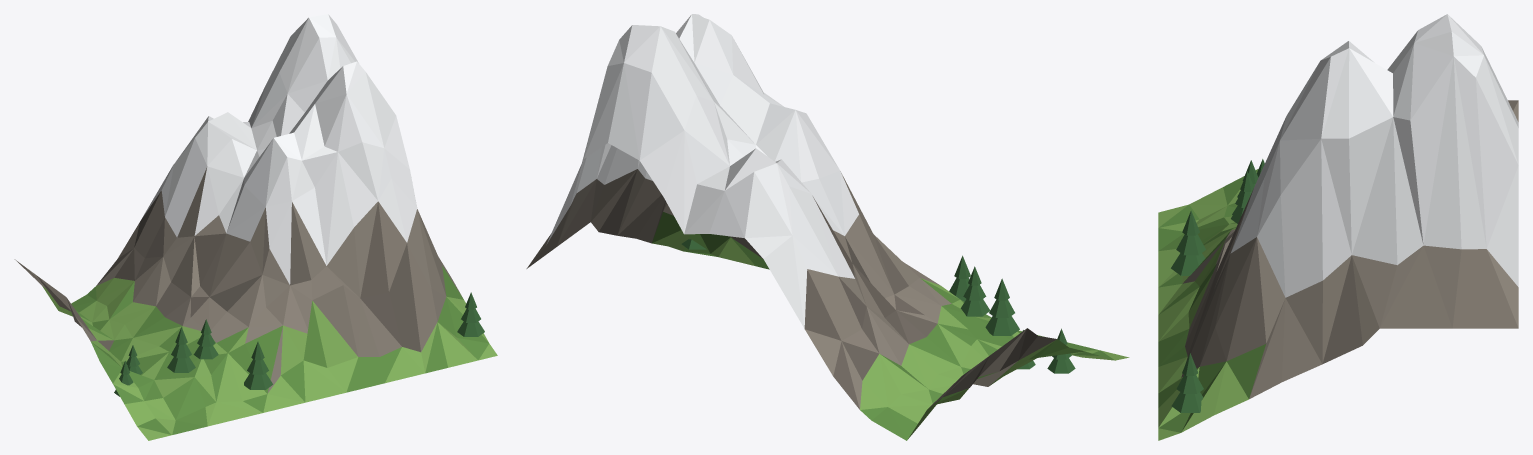
Rendered from mountains-a.glb.
The picture shows the model from 3 angles, left to right: view 1: azimuth 30°, elevation 25°; view 2: azimuth 150°, elevation 25°; view 3: azimuth 270°, elevation 25°; orthographic projection. The views are drawn at different scales.
Parts seen in each view (by area): view 1: mountains-a; view 2: mountains-a; view 3: mountains-a.
Boxes of the visible parts, <box> form: mountains-a: <box>14,14,497,440</box>; mountains-a: <box>526,14,1129,440</box>; mountains-a: <box>1158,14,1518,440</box>.
Size of the model in its own units: 24 by 18.32 by 16.
